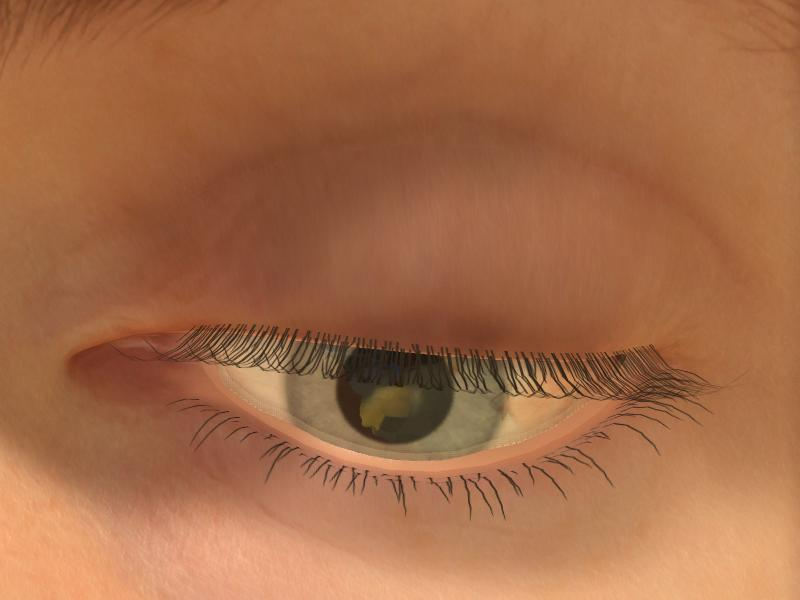eye: (285, 338, 508, 460)
